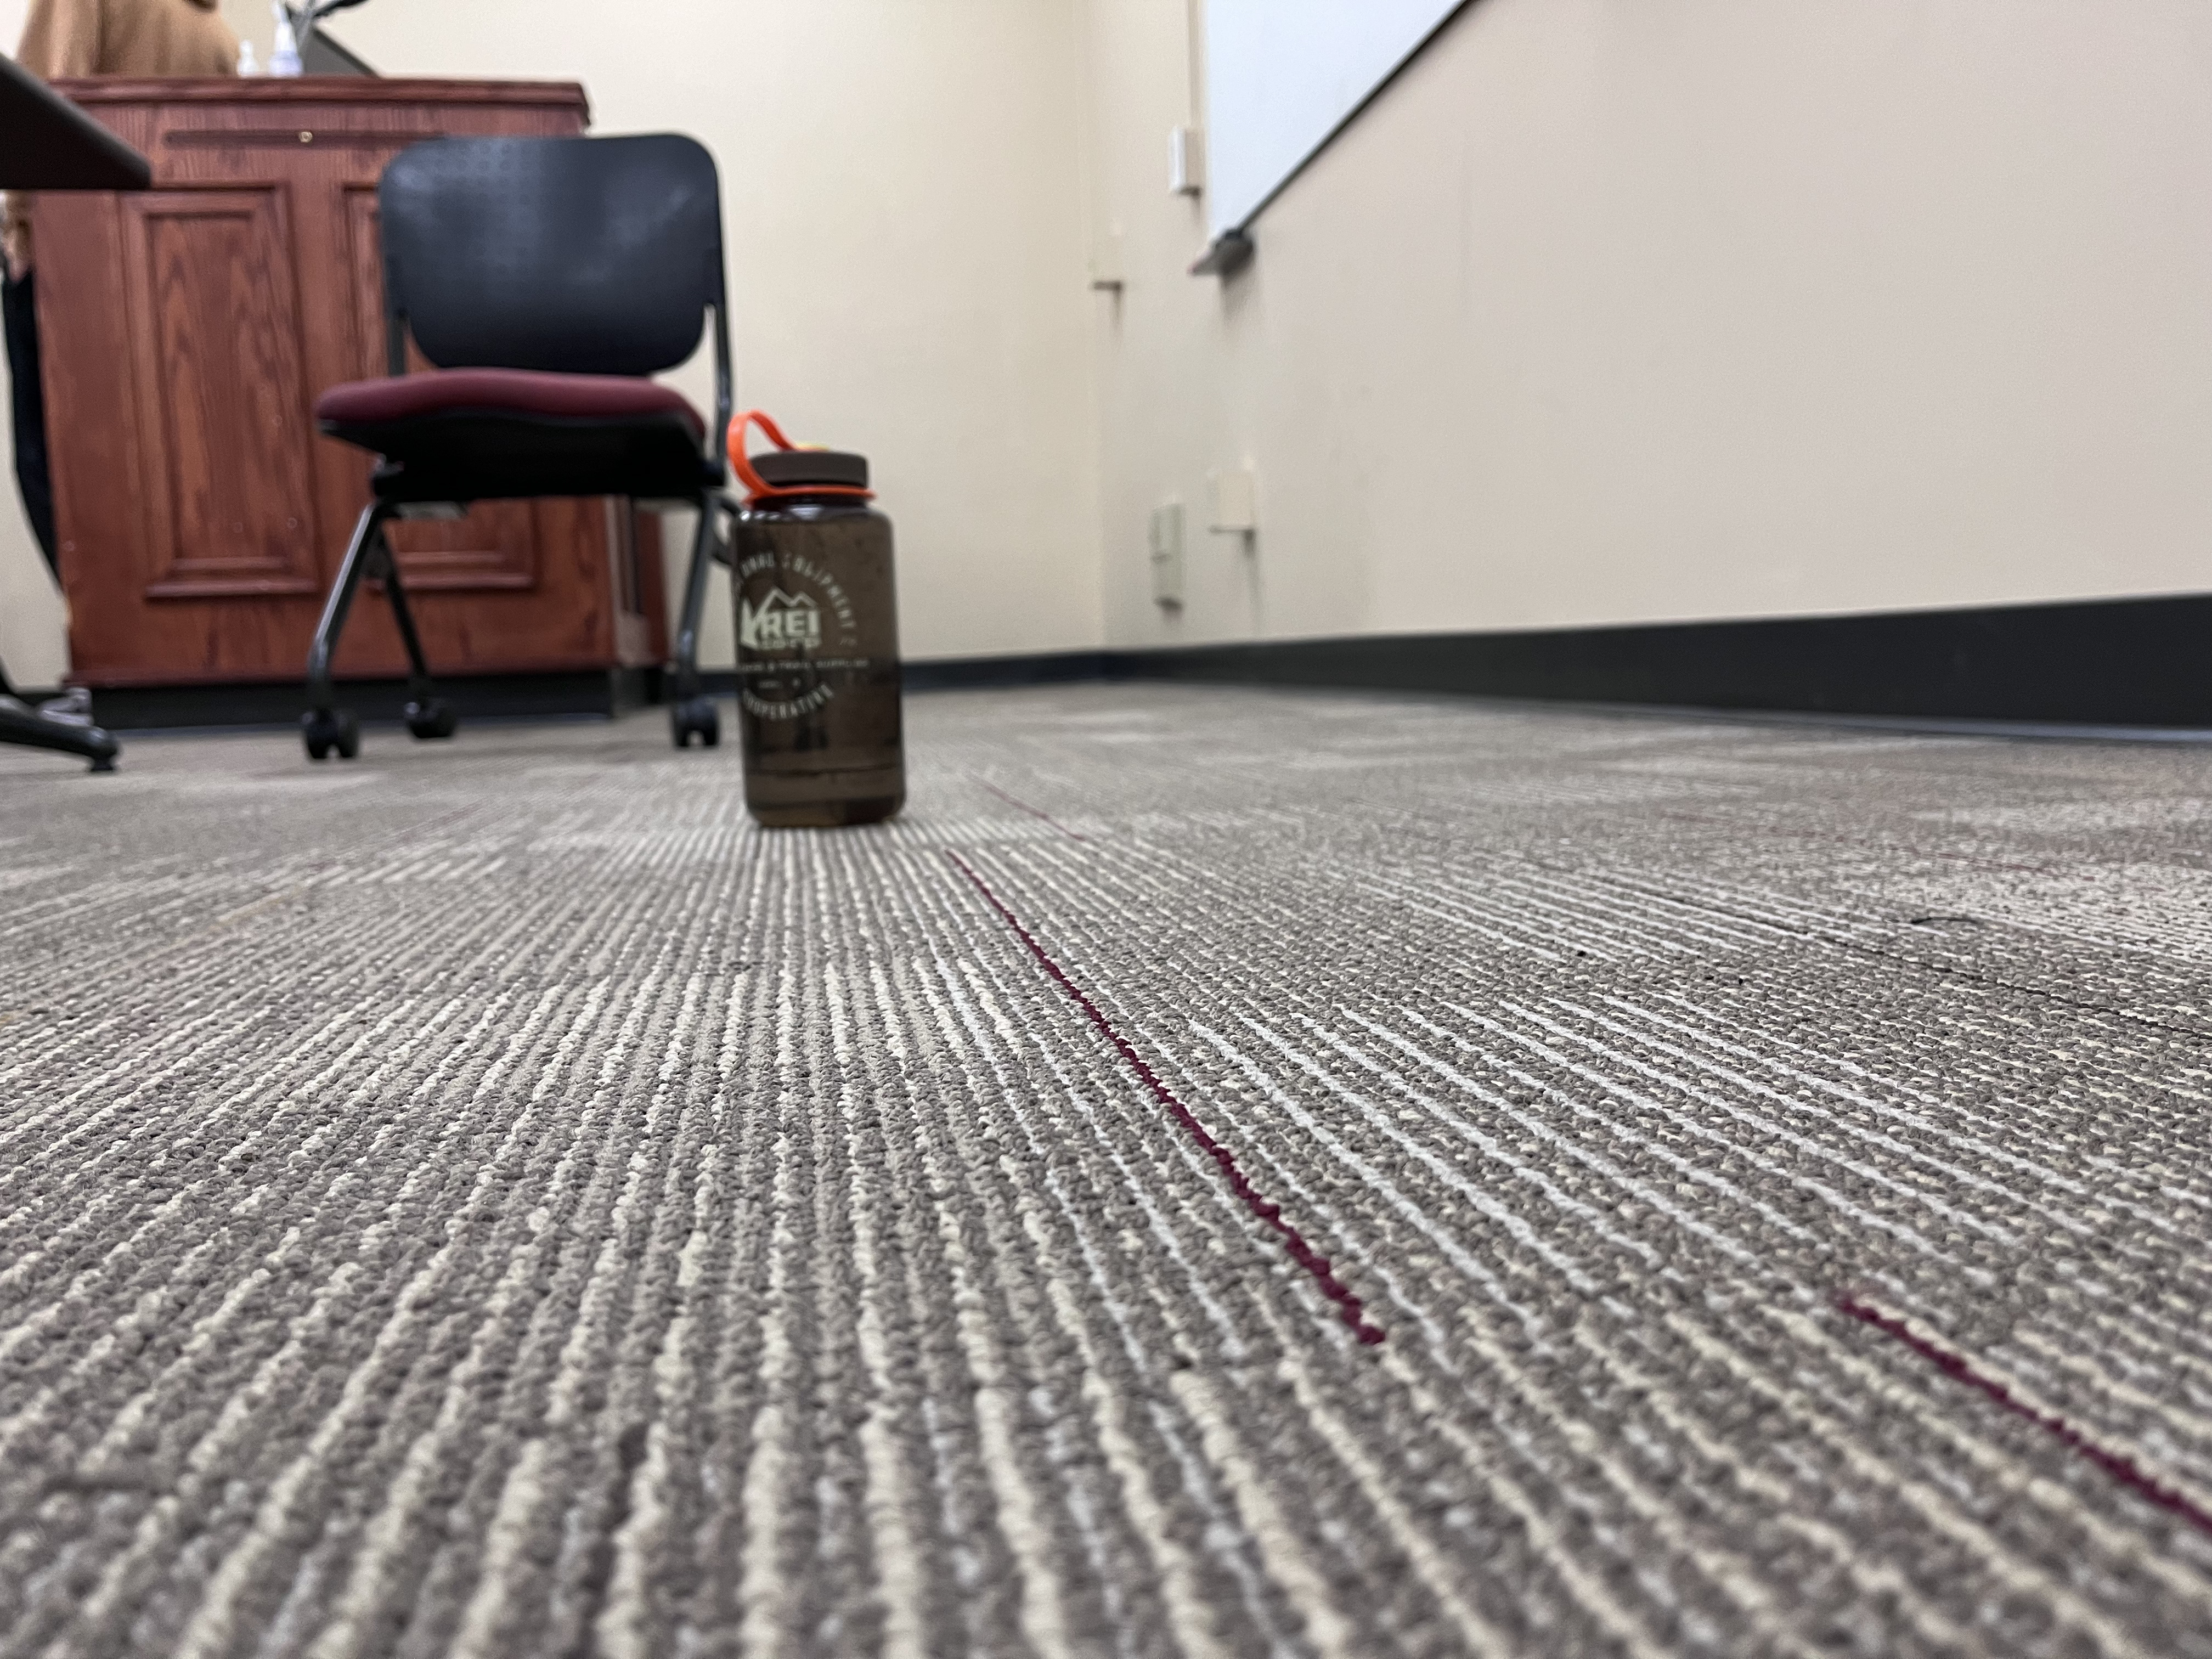bottle: (719, 406, 913, 838)
